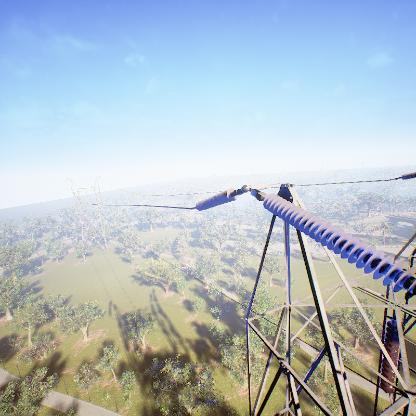insulator: (262, 191, 416, 302), (379, 319, 402, 395), (196, 188, 239, 212)
